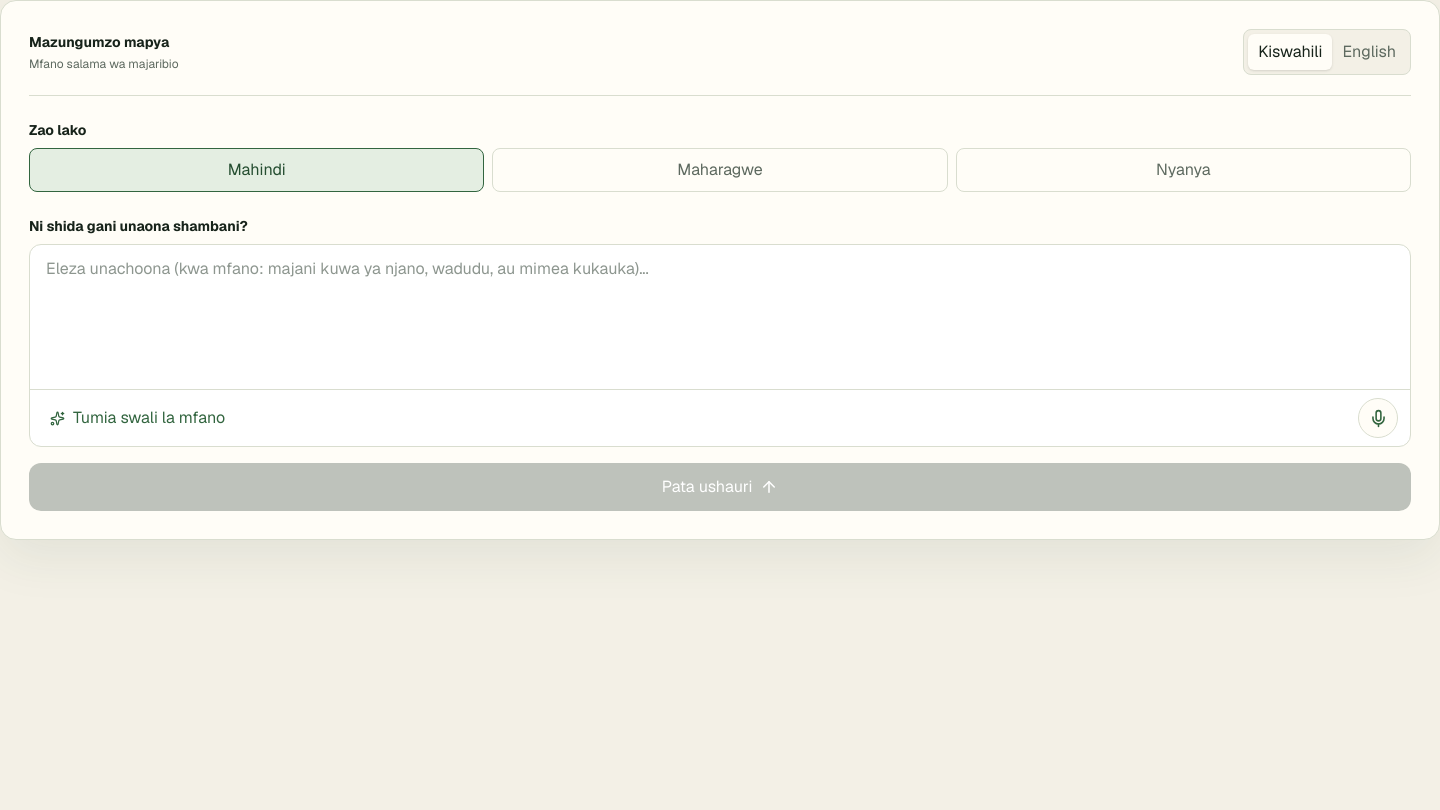
Test: FarmerAssistant › fills the Swahili sample question and renders structured guidance
This screenshot has width=1440, height=810.
Click the button "Tumia swali la mfano" at (138,418), box [42,400,233,436]
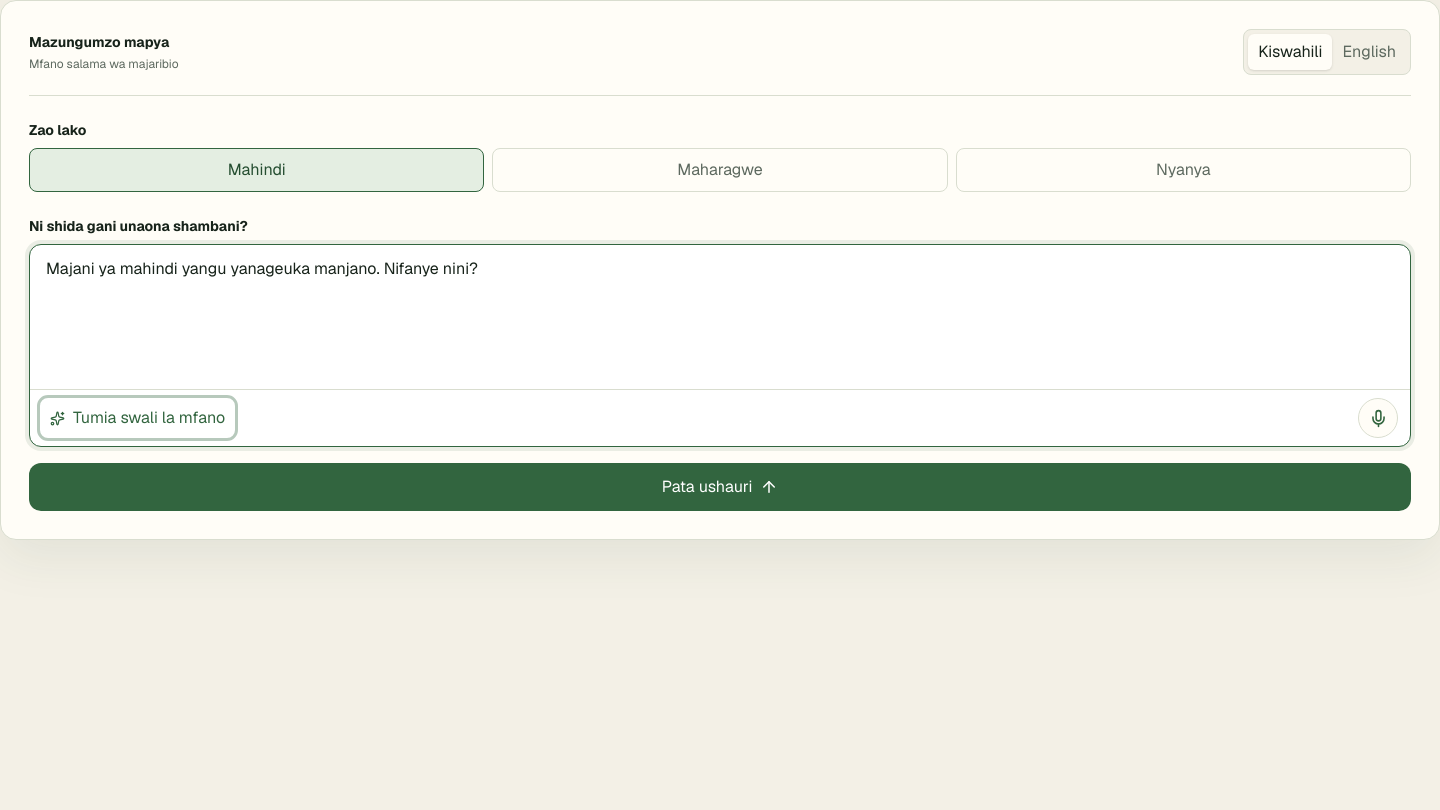
Result: the text box holds "Majani ya mahindi yangu yanageuka manjano. Nifanye nini?" at [30,245,1410,389]
Click the button "Pata ushauri" at (720,487), box [29,463,1411,511]
(page scrolled)
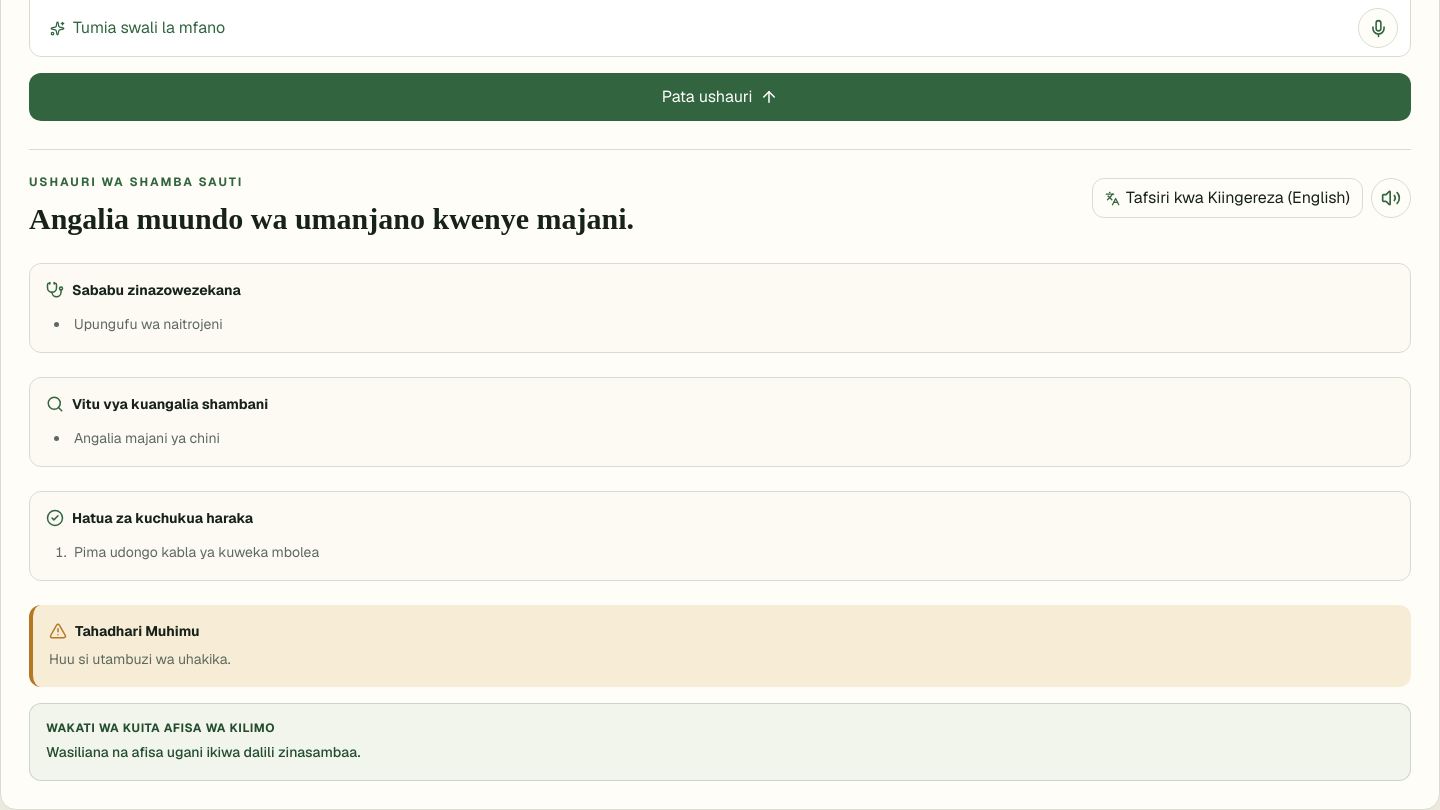
Result: the heading "Angalia muundo wa umanjano kwenye majani." is shown at [29,202,634,235]
Result: the text "Wasiliana na afisa ugani ikiwa dalili zinasambaa." is shown at [46,743,360,761]
